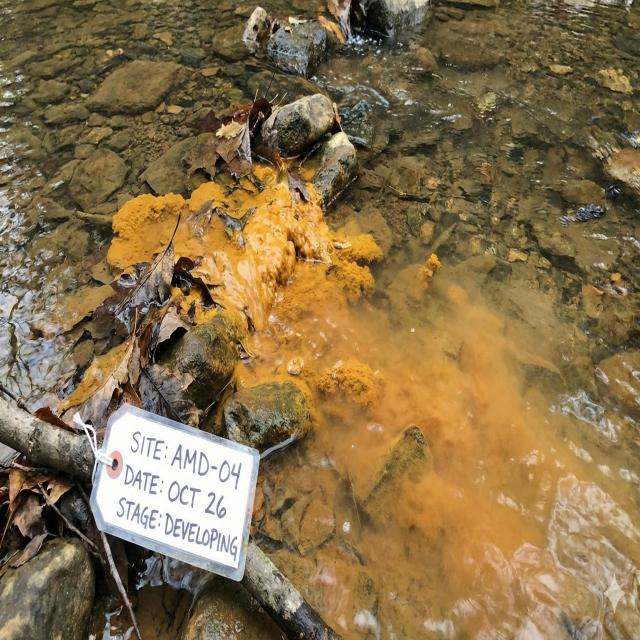yellow_boy: (107, 169, 640, 640)
